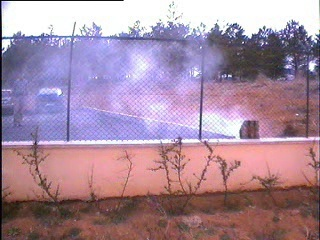smoke: (108, 43, 260, 136)
